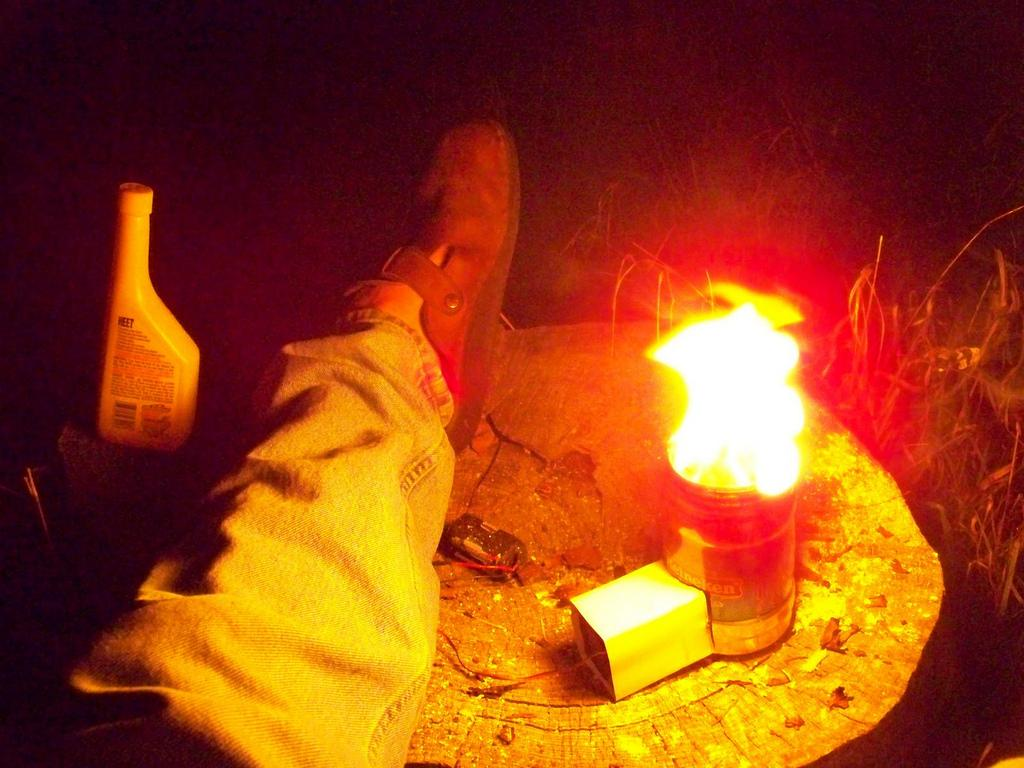fire: (668, 316, 810, 482)
